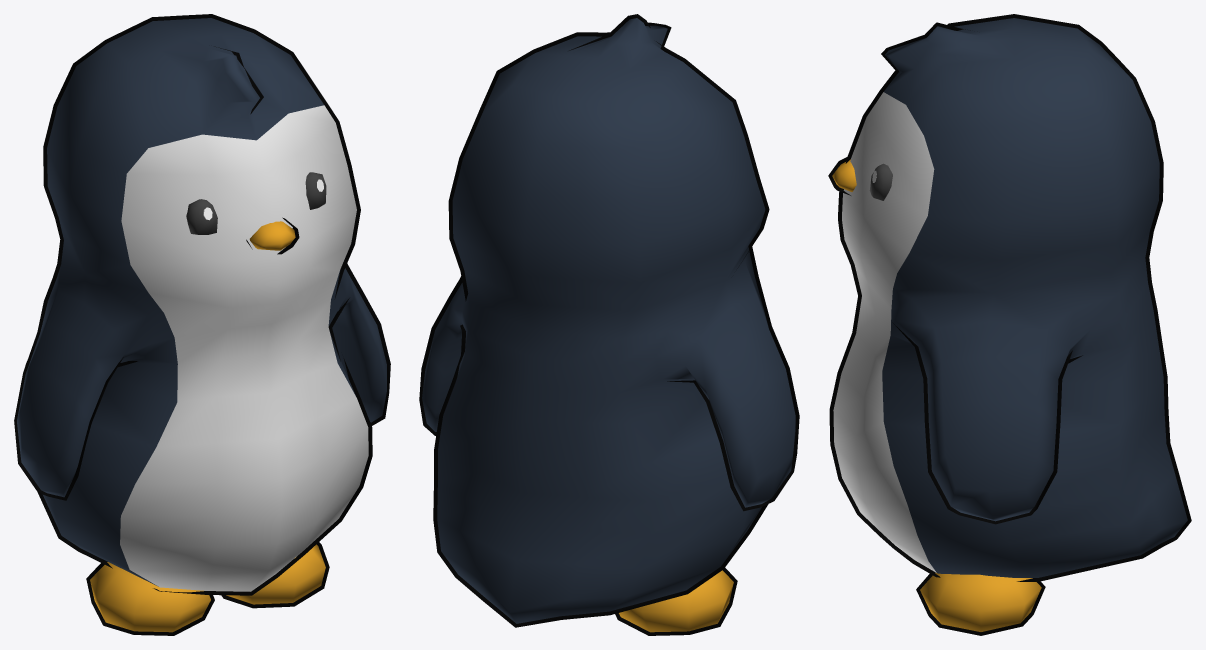
File: LilPengu.fbx
The picture shows the model from 3 angles, left to right: view 1: azimuth 30°, elevation 25°; view 2: azimuth 150°, elevation 25°; view 3: azimuth 270°, elevation 25°; orthographic projection.
Parts seen in each view (by area): view 1: Body, Legs, Eyes, Nose; view 2: Body, Legs; view 3: Body, Legs, Nose, Eyes.
Boxes of the visible parts, box(x1,y1,x2,y2) form: Body: box(14, 14, 390, 595); Legs: box(86, 542, 329, 635); Eyes: box(186, 172, 326, 234); Nose: box(246, 217, 299, 254); Body: box(419, 14, 799, 627); Legs: box(615, 567, 737, 635); Body: box(829, 14, 1191, 581); Legs: box(916, 573, 1045, 635); Nose: box(828, 157, 856, 195); Eyes: box(869, 163, 892, 200).
Bounding box in the file's own units: 97.42 × 158 × 91.03.
